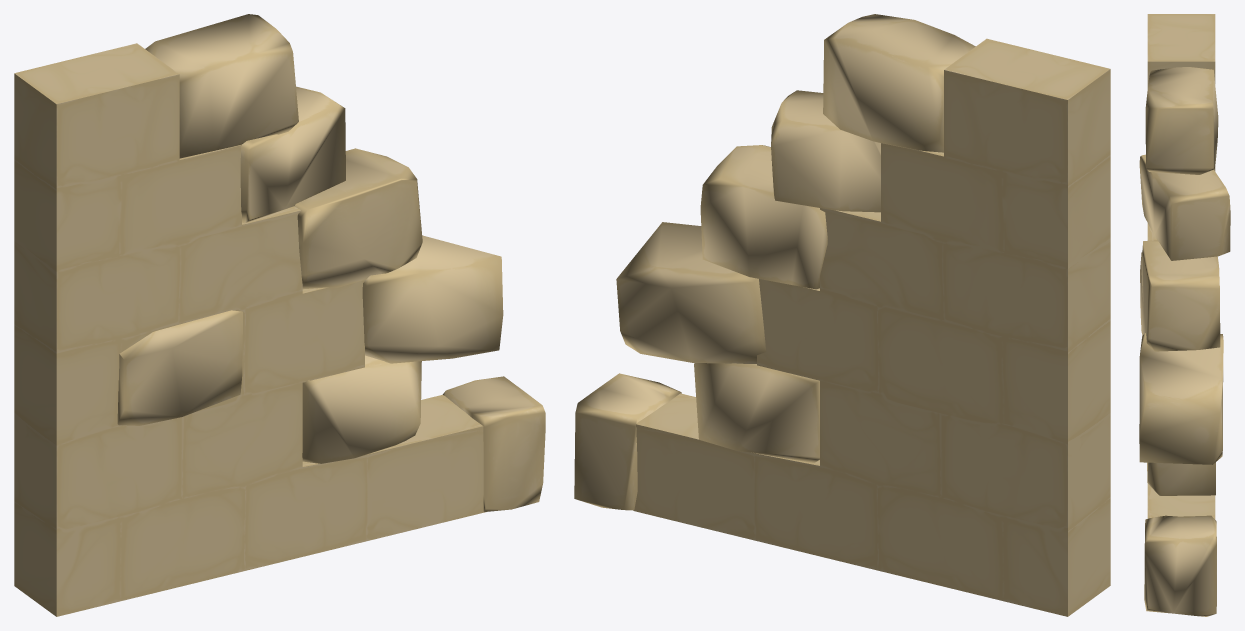
File: Wall2.fbx
The picture shows the model from 3 angles, left to right: view 1: azimuth 30°, elevation 25°; view 2: azimuth 150°, elevation 25°; view 3: azimuth 270°, elevation 25°; orthographic projection. The views are drawn at different scales.
Visible parts, largest first — view 1: 2low2; view 2: 2low2; view 3: 2low2.
Part boxes in pixels (x1,y1,x2,y2): 2low2: (14, 14, 545, 616); 2low2: (574, 14, 1110, 616); 2low2: (1139, 14, 1230, 616).
Size of the model in its own units: 2 by 2.04 by 0.4044.
Materials: 2 (2 with a texture image).
